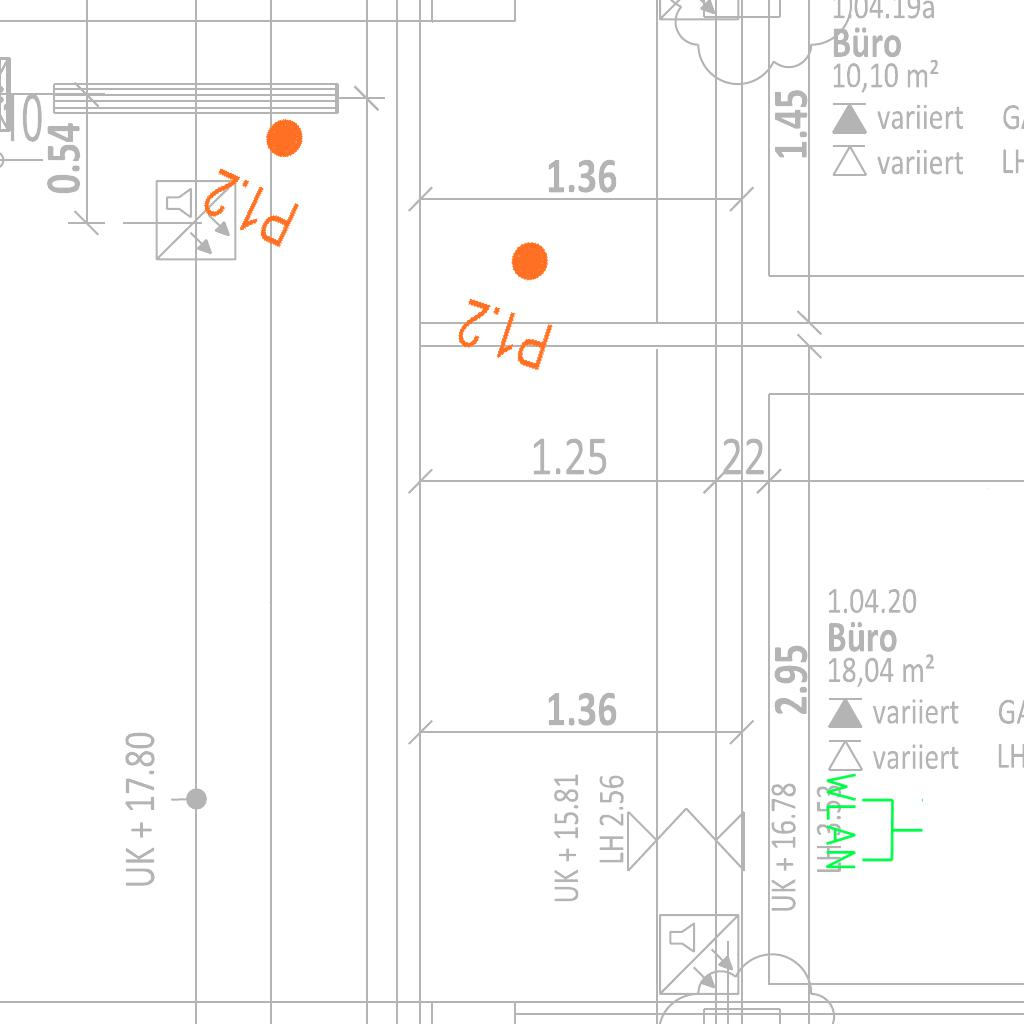Downlight_LED_Einbauleuchten_Flur: (196, 97, 335, 253), (451, 224, 580, 376)
WLAN: (822, 768, 926, 873)
